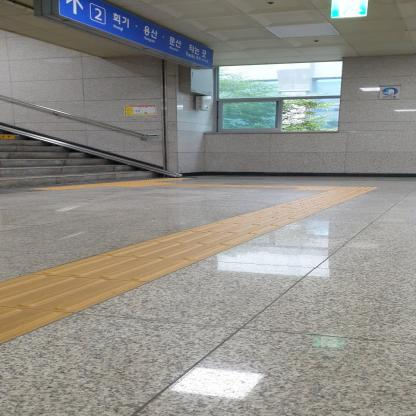go: (0, 274, 148, 313), (30, 255, 201, 282), (96, 241, 236, 261), (144, 230, 262, 246), (183, 223, 283, 235), (212, 216, 300, 226), (234, 211, 314, 219), (253, 207, 326, 214), (269, 203, 336, 209)
